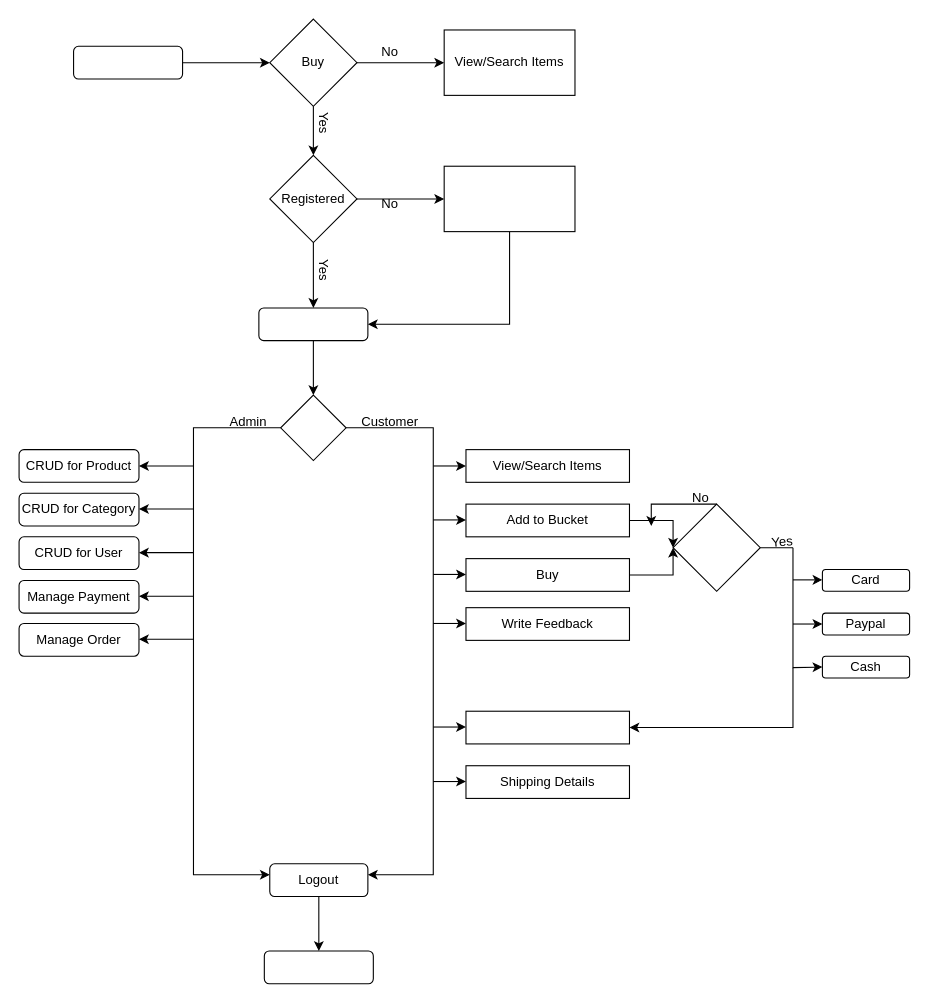
Some shapes in this 929 by 1003 pixel diagram are drawn without their labels. The shapes that lost their labels are listed below. From the top down, each one's centre as x and y in pixels, then its label:
At (x=127, y=62): "Start".
At (x=509, y=198): "User Registration".
At (x=313, y=324): "Login".
At (x=313, y=427): "Role".
At (x=716, y=547): "Payment".
At (x=547, y=727): "Order Placed".
At (x=318, y=967): "Stop".
